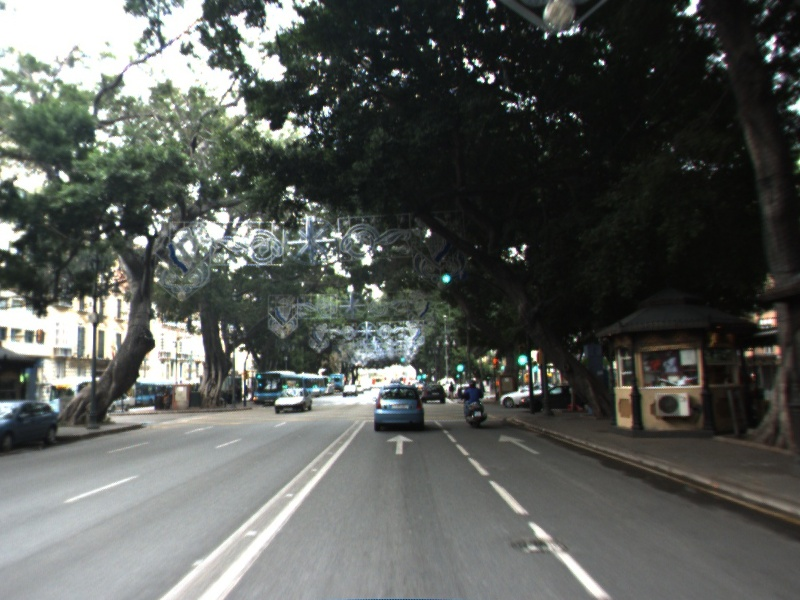STRAIGHT: (496, 432, 543, 456), (384, 432, 416, 456)
